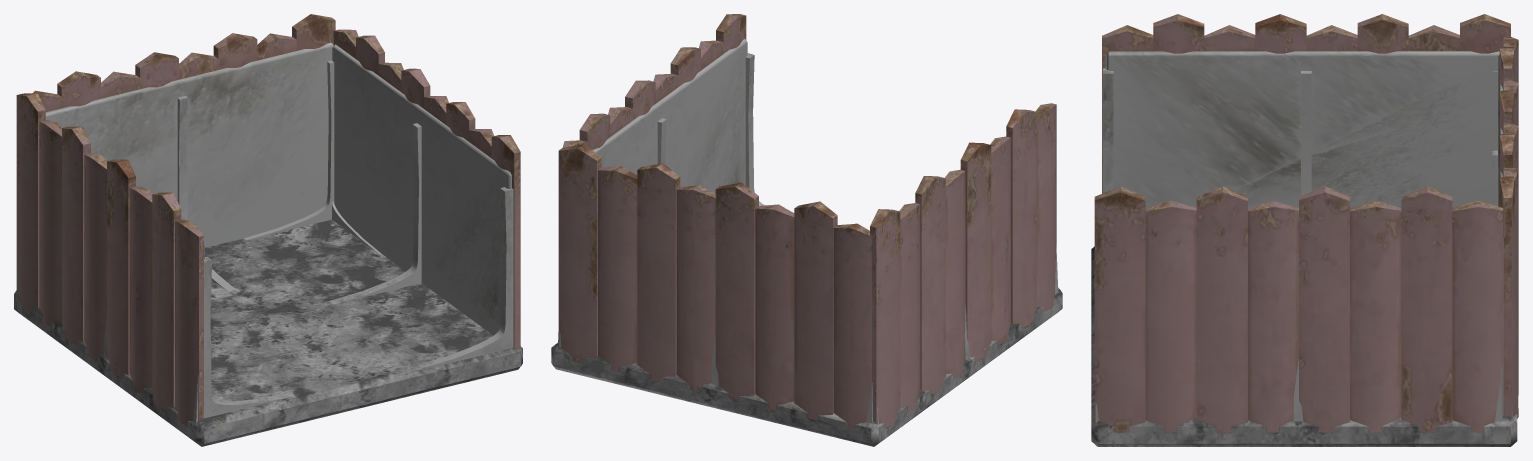
The model's file is Fence3Side.glb.
3 renders of one model, left to right at view 1: azimuth 30°, elevation 25°; view 2: azimuth 150°, elevation 25°; view 3: azimuth 270°, elevation 25°, orthographic. The views are drawn at different scales.
Visible parts, largest first — view 1: Cube_0; view 2: Cube_0; view 3: Cube_0.
Boxes of the visible parts, x1,y1,x2,y2 form: Cube_0: (14,14,522,446); Cube_0: (551,14,1062,446); Cube_0: (1091,14,1518,446).
Bounding box in the file's own units: 2.02 × 1.33 × 2.01.
Materials: 1 (1 with a texture image).
